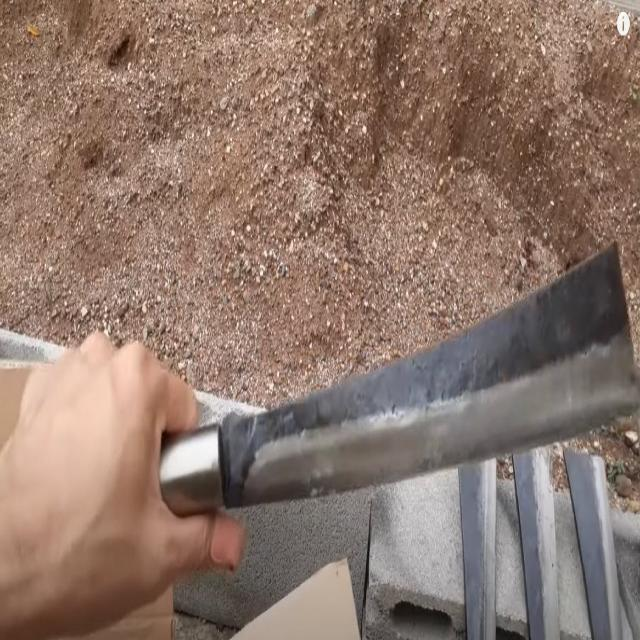eto: (0, 239, 640, 524)
